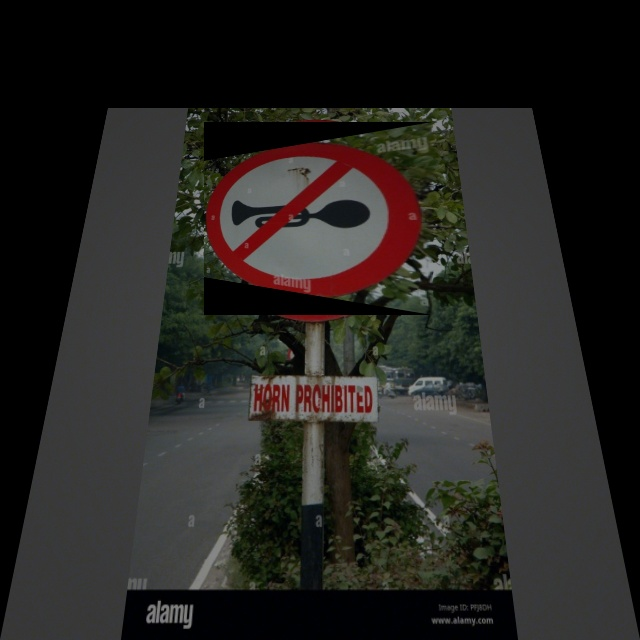Horn_Prohibited: (204, 122, 433, 315)
